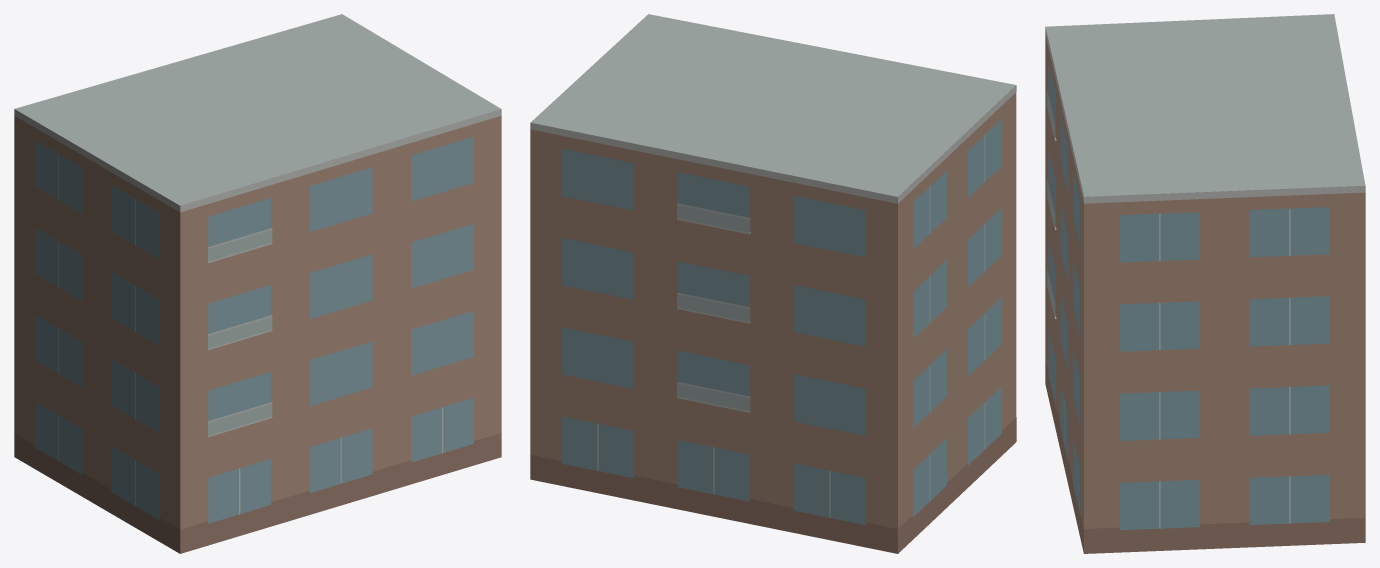
File: survey-upis-32654173.glb
3 views of the same model, side by side, from view 1: azimuth 30°, elevation 25°; view 2: azimuth 150°, elevation 25°; view 3: azimuth 270°, elevation 25° (orthographic). The views are drawn at different scales.
Visible parts, largest first — view 1: survey-upis-32654173.tmp; view 2: survey-upis-32654173.tmp; view 3: survey-upis-32654173.tmp.
Boxes of the visible parts, left/top/right/bottom form: survey-upis-32654173.tmp: left=14, top=14, right=501, bottom=553; survey-upis-32654173.tmp: left=530, top=14, right=1016, bottom=553; survey-upis-32654173.tmp: left=1045, top=14, right=1365, bottom=553.
Bounding box in the file's own units: 14.07 × 12.8 × 10.41.
